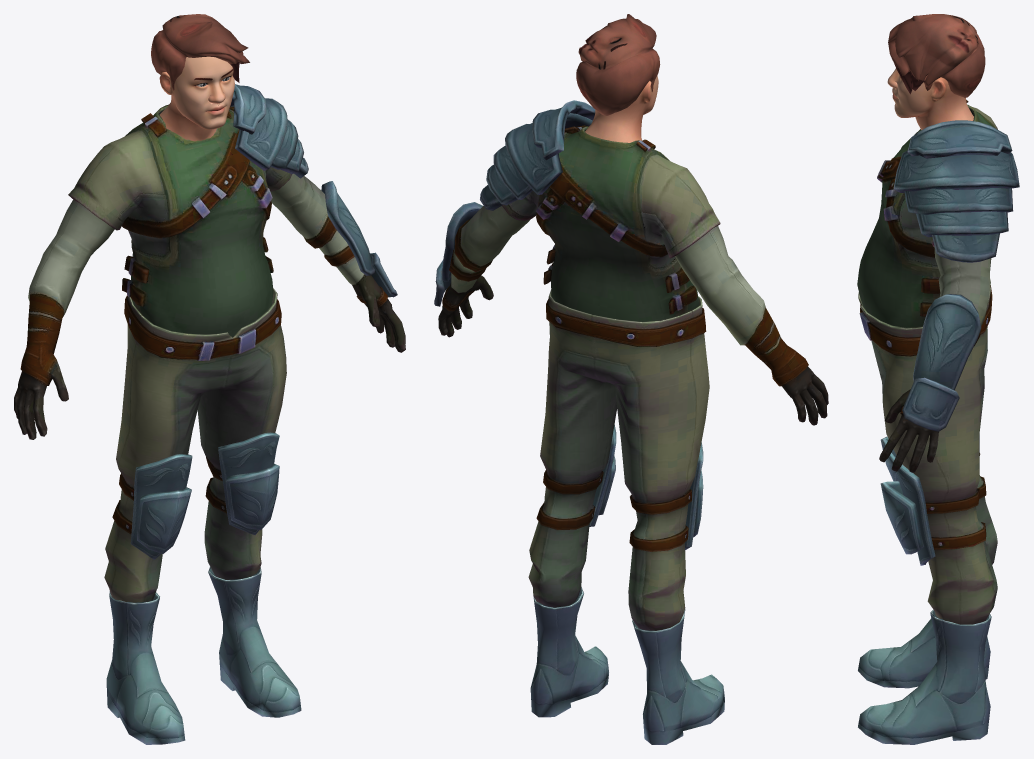
Rendered from Fat_Character_Costume_2.glb.
3 views of the same model, side by side, from view 1: azimuth 30°, elevation 25°; view 2: azimuth 150°, elevation 25°; view 3: azimuth 270°, elevation 25° (orthographic).
Parts seen in each view (by area): view 1: Wolf3D_Outfit_Bottom.002, Wolf3D_Outfit_Bottom, Wolf3D_Outfit_Bottom.004, Wolf3D_Outfit_Bottom.003, Head.005, Head.008; view 2: Wolf3D_Outfit_Bottom.002, Wolf3D_Outfit_Bottom, Wolf3D_Outfit_Bottom.004, Wolf3D_Outfit_Bottom.003, Head.008, Head.005; view 3: Wolf3D_Outfit_Bottom.002, Wolf3D_Outfit_Bottom, Wolf3D_Outfit_Bottom.003, Head.008, Wolf3D_Outfit_Bottom.004, Head.005.
Part boxes in pixels (left/top/right/bottom): Wolf3D_Outfit_Bottom.002: left=14, top=84, right=405, bottom=439; Wolf3D_Outfit_Bottom: left=104, top=288, right=286, bottom=602; Wolf3D_Outfit_Bottom.004: left=106, top=591, right=185, bottom=744; Wolf3D_Outfit_Bottom.003: left=208, top=566, right=301, bottom=717; Head.005: left=159, top=56, right=234, bottom=141; Head.008: left=151, top=14, right=249, bottom=90; Wolf3D_Outfit_Bottom.002: left=434, top=100, right=828, bottom=425; Wolf3D_Outfit_Bottom: left=528, top=289, right=709, bottom=630; Wolf3D_Outfit_Bottom.004: left=632, top=609, right=724, bottom=744; Wolf3D_Outfit_Bottom.003: left=530, top=587, right=608, bottom=717; Head.008: left=576, top=14, right=660, bottom=115; Head.005: left=585, top=75, right=658, bottom=142; Wolf3D_Outfit_Bottom.002: left=857, top=99, right=1019, bottom=472; Wolf3D_Outfit_Bottom: left=858, top=285, right=997, bottom=624; Wolf3D_Outfit_Bottom.003: left=858, top=609, right=991, bottom=744; Head.008: left=888, top=14, right=985, bottom=97; Wolf3D_Outfit_Bottom.004: left=858, top=618, right=990, bottom=688; Head.005: left=887, top=68, right=973, bottom=129.
Size of the model in its own units: 1.07 by 1.87 by 0.3978.
6 materials, 6 textured.
